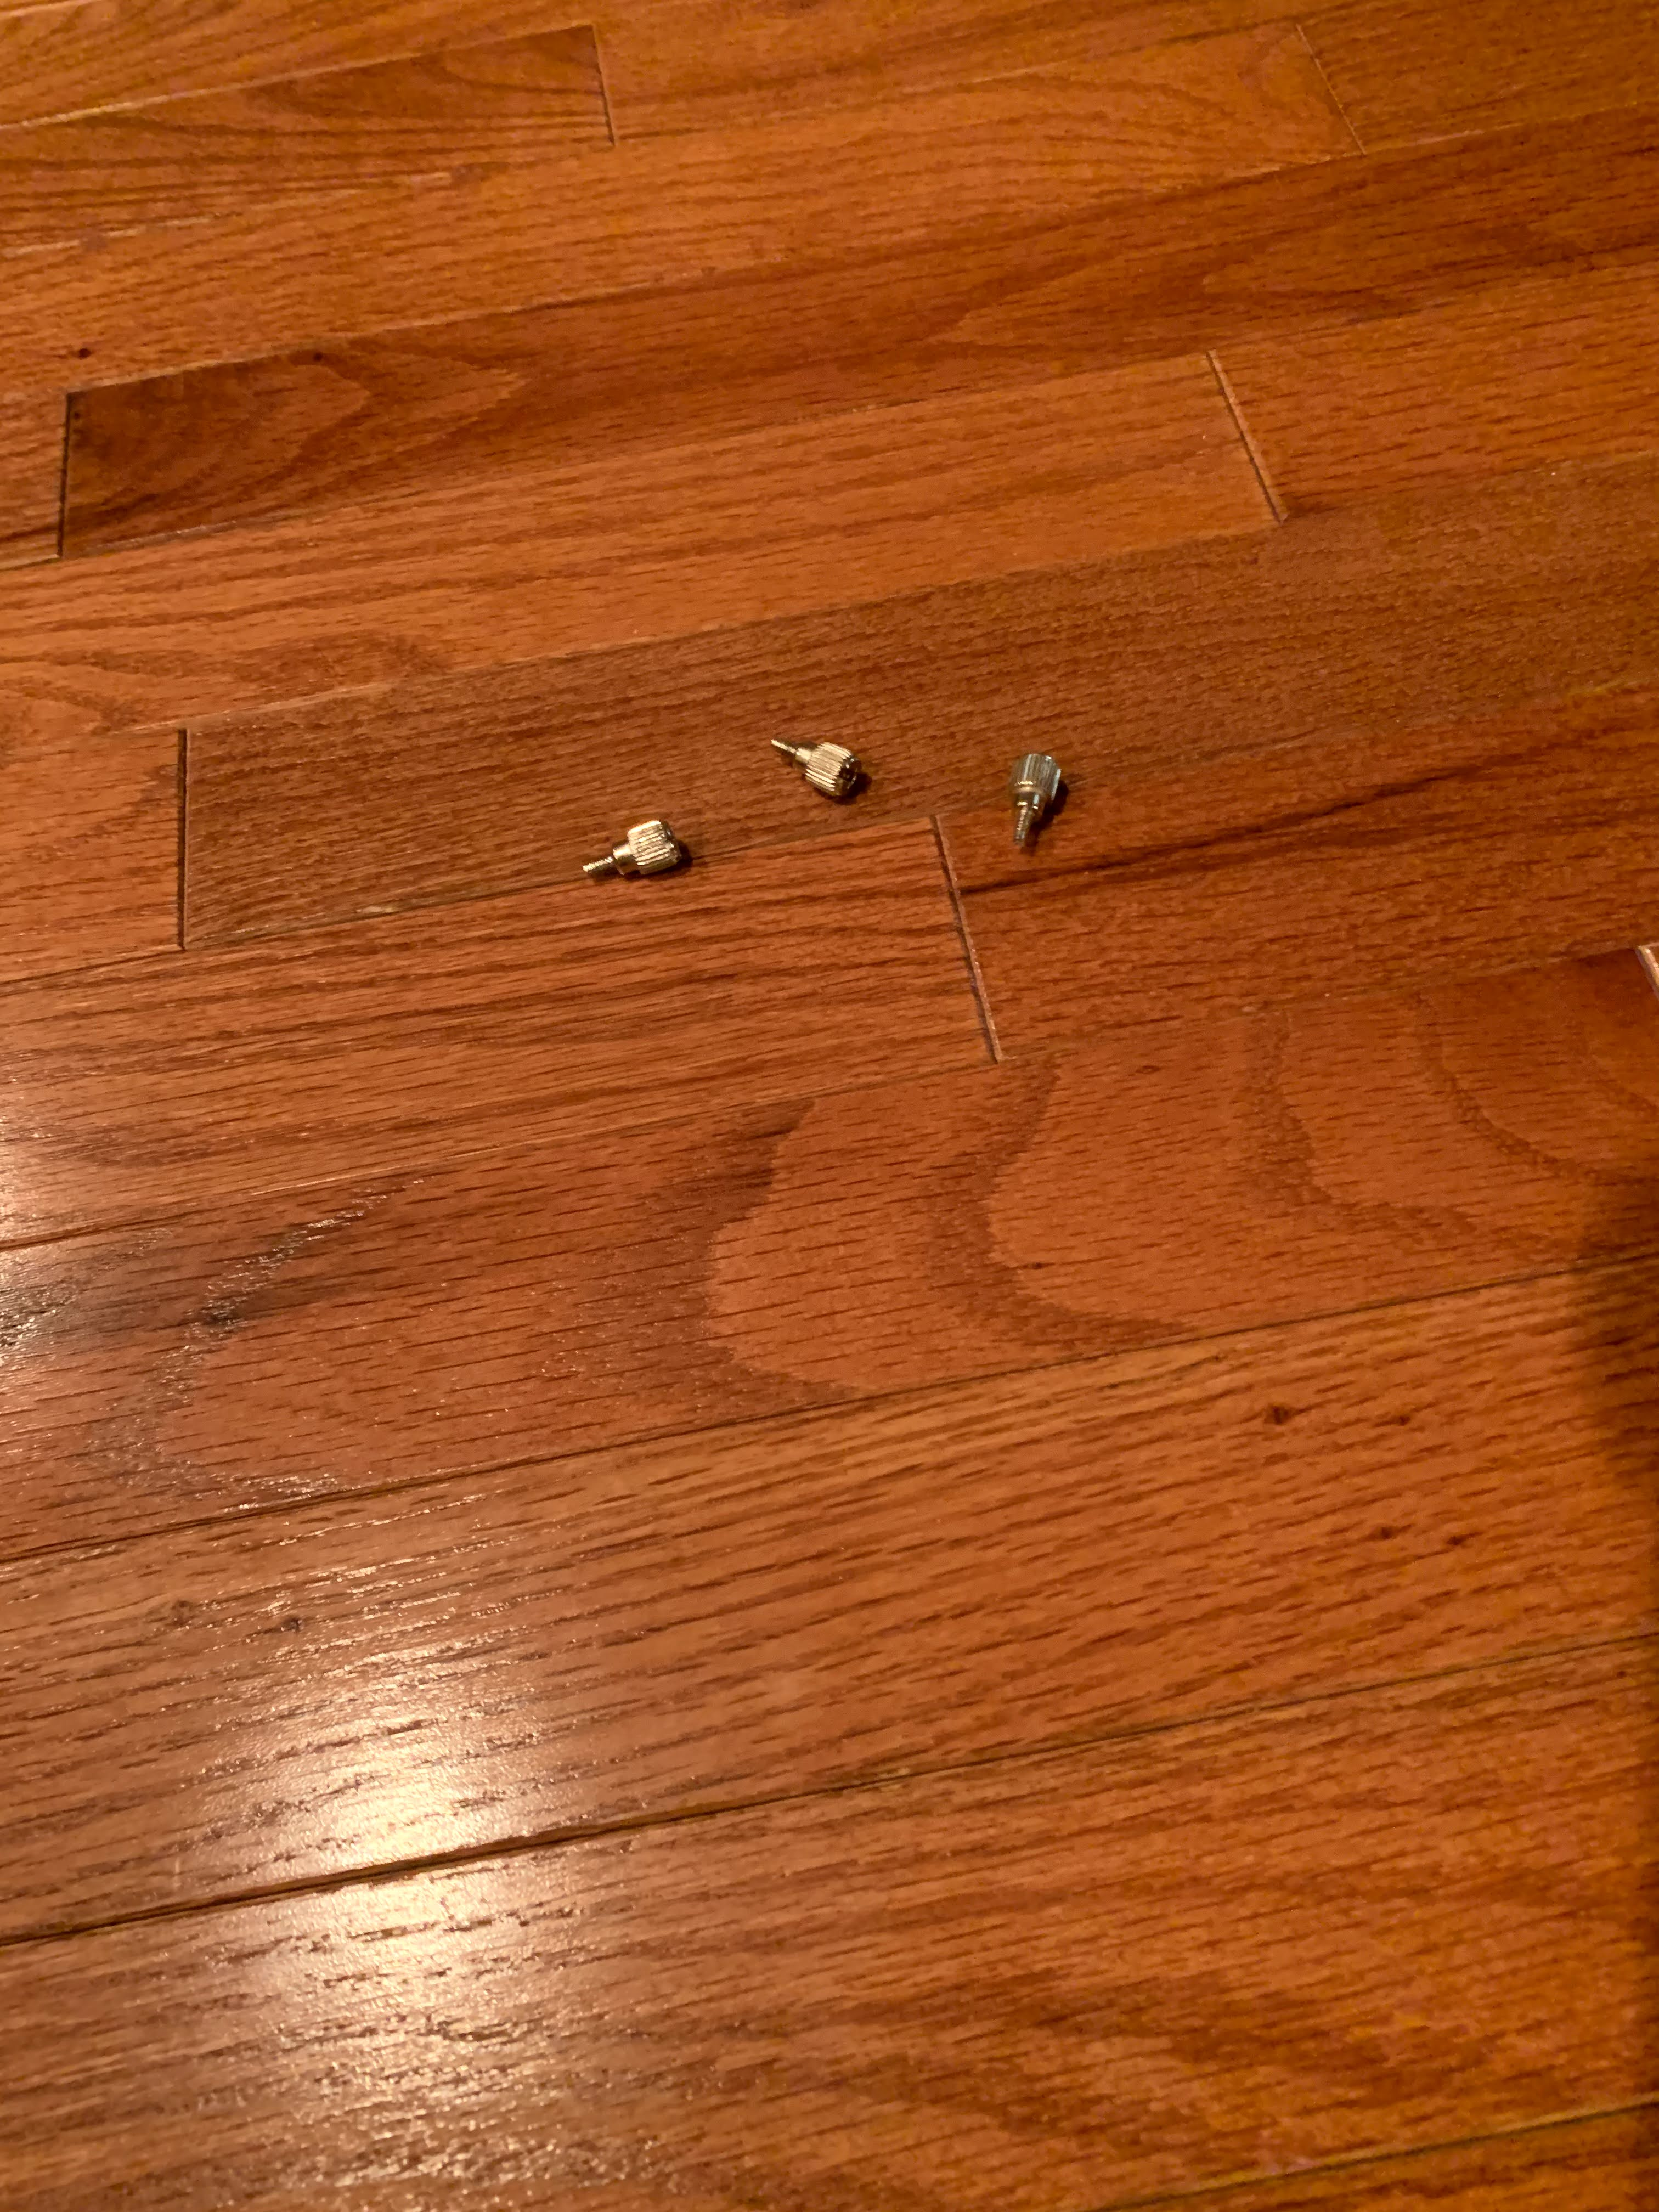Space-debris-small: (575, 817, 683, 890), (763, 730, 863, 803), (1007, 744, 1065, 846)
